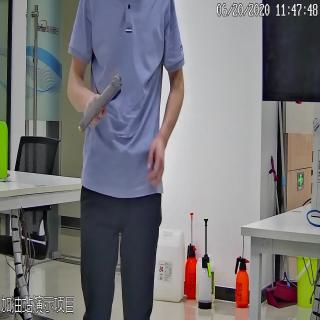gun: (76, 71, 122, 131)
